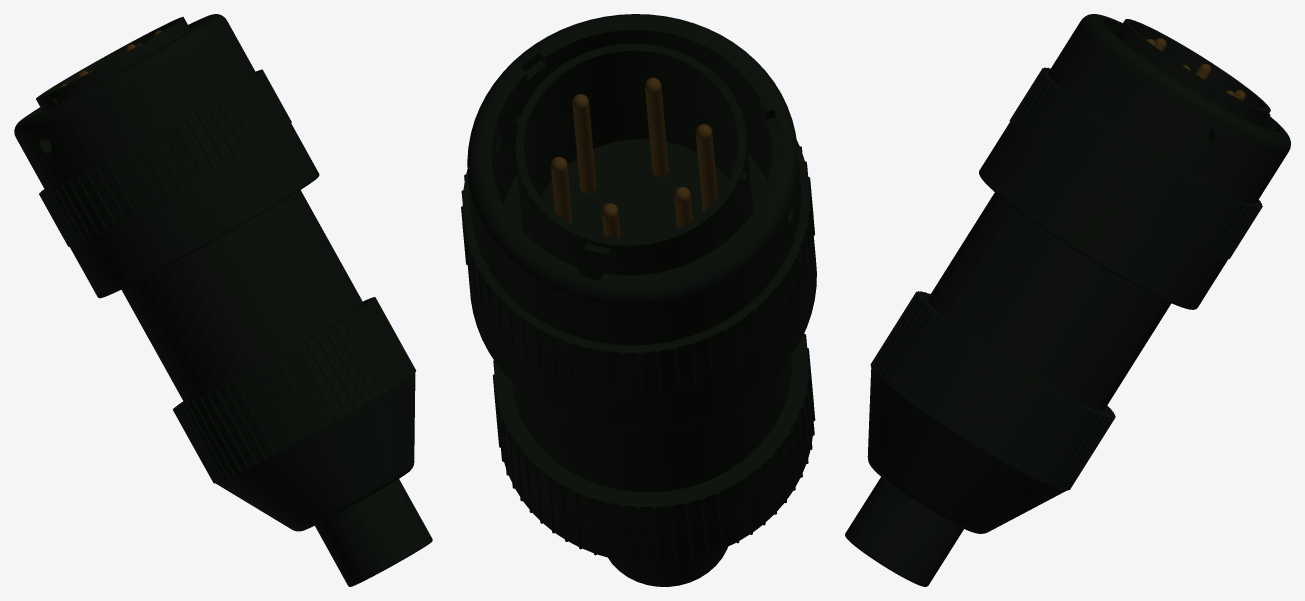
The model's file is GPS Cable Male Port.fbx.
3 views of the same model, side by side, from view 1: azimuth 30°, elevation 25°; view 2: azimuth 150°, elevation 25°; view 3: azimuth 270°, elevation 25° (orthographic). The views are drawn at different scales.
Parts seen in each view (by area): view 1: Shape_IndexedFaceSet, Shape_IndexedFaceSet.004; view 2: Shape_IndexedFaceSet.004, Shape_IndexedFaceSet, Shape_IndexedFaceSet.009, Shape_IndexedFaceSet.008, Shape_IndexedFaceSet.007, Shape_IndexedFaceSet.010, Shape_IndexedFaceSet.002, Shape_IndexedFaceSet.001; view 3: Shape_IndexedFaceSet, Shape_IndexedFaceSet.004.
Part boxes in pixels (x1,y1,x2,y2): Shape_IndexedFaceSet: (121, 190, 432, 586); Shape_IndexedFaceSet.004: (14, 14, 319, 298); Shape_IndexedFaceSet.004: (461, 14, 816, 431); Shape_IndexedFaceSet: (493, 333, 815, 586); Shape_IndexedFaceSet.009: (572, 94, 596, 193); Shape_IndexedFaceSet.008: (645, 77, 668, 177); Shape_IndexedFaceSet.007: (695, 124, 717, 212); Shape_IndexedFaceSet.010: (551, 156, 572, 224); Shape_IndexedFaceSet.002: (674, 187, 692, 228); Shape_IndexedFaceSet.001: (601, 203, 620, 238); Shape_IndexedFaceSet: (845, 192, 1171, 586); Shape_IndexedFaceSet.004: (979, 14, 1290, 309).
Size of the model in its own units: 2.74 by 4.58 by 3.63.
